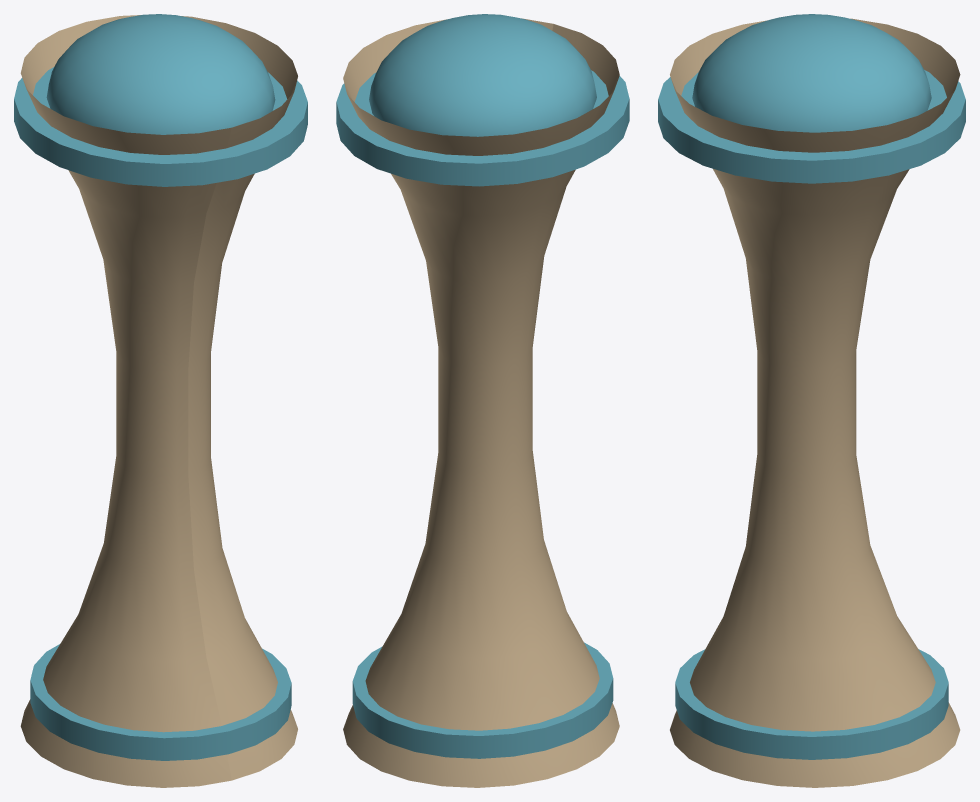
The model's file is left_digit_4_proximal.glb.
3 views of the same model, side by side, from view 1: azimuth 30°, elevation 25°; view 2: azimuth 150°, elevation 25°; view 3: azimuth 270°, elevation 25° (orthographic).
Visible parts, largest first — view 1: left_digit_4_proximal:diaphysis, left_digit_4_proximal:proximal-envelope, left_digit_4_proximal:proximal-epiphyseal-plate, left_digit_4_proximal:distal-epiphyseal-plate; view 2: left_digit_4_proximal:diaphysis, left_digit_4_proximal:proximal-envelope, left_digit_4_proximal:proximal-epiphyseal-plate, left_digit_4_proximal:distal-epiphyseal-plate; view 3: left_digit_4_proximal:diaphysis, left_digit_4_proximal:proximal-envelope, left_digit_4_proximal:proximal-epiphyseal-plate, left_digit_4_proximal:distal-epiphyseal-plate.
Part boxes in pixels (box(x1,y1,x2,y2)): left_digit_4_proximal:diaphysis: box(20, 15, 297, 787); left_digit_4_proximal:proximal-envelope: box(46, 14, 275, 134); left_digit_4_proximal:proximal-epiphyseal-plate: box(14, 67, 307, 186); left_digit_4_proximal:distal-epiphyseal-plate: box(30, 644, 291, 760); left_digit_4_proximal:diaphysis: box(343, 18, 619, 787); left_digit_4_proximal:proximal-envelope: box(369, 14, 596, 136); left_digit_4_proximal:proximal-epiphyseal-plate: box(336, 70, 629, 186); left_digit_4_proximal:distal-epiphyseal-plate: box(352, 642, 613, 758); left_digit_4_proximal:diaphysis: box(670, 18, 960, 787); left_digit_4_proximal:proximal-envelope: box(692, 14, 931, 132); left_digit_4_proximal:proximal-epiphyseal-plate: box(658, 70, 965, 183); left_digit_4_proximal:distal-epiphyseal-plate: box(675, 649, 948, 759).
Bounding box in the file's own units: 0.0416 × 0.1176 × 0.0441.
